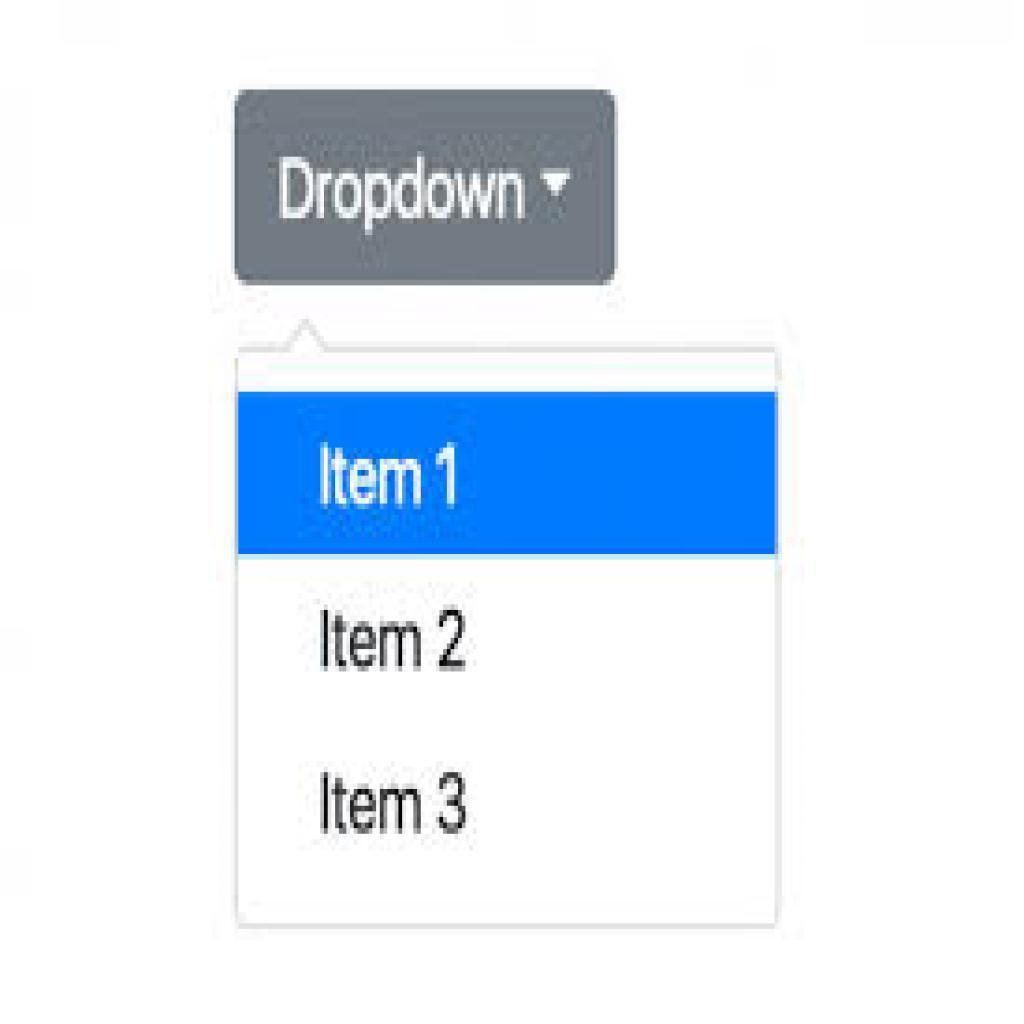button: (238, 391, 781, 561)
dropdown: (235, 93, 619, 286)
